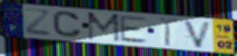C: (51, 10, 84, 39)
E: (119, 15, 150, 45)
M: (86, 11, 122, 43)
T: (156, 17, 180, 48)
V: (182, 19, 213, 49)
Z: (23, 7, 52, 38)
